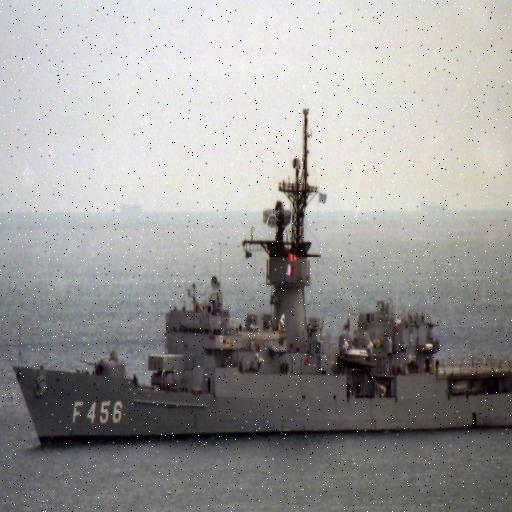Fragata: (8, 104, 512, 456)
